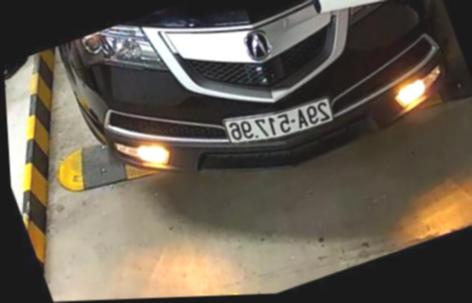License_Plate: (215, 92, 335, 153)
